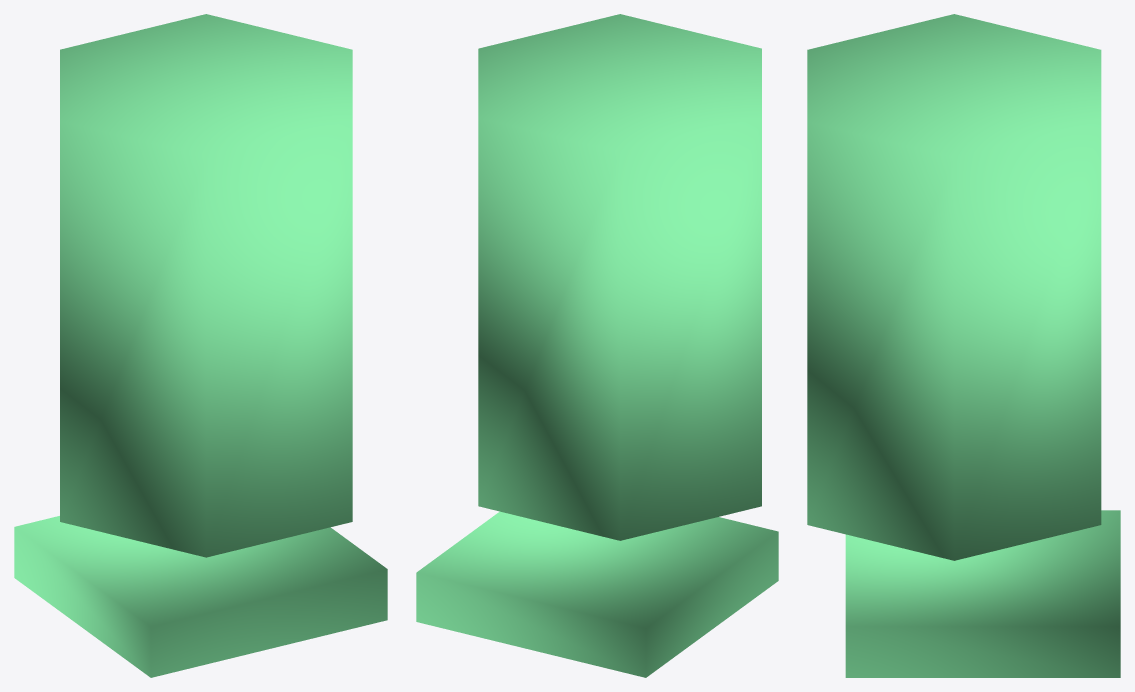
The model's file is ps2_jrpg_sacred_grove_crystal_shrub.obj.
The picture shows the model from 3 angles, left to right: view 1: azimuth 30°, elevation 25°; view 2: azimuth 150°, elevation 25°; view 3: azimuth 270°, elevation 25°; orthographic projection. The views are drawn at different scales.
Bounding box in the file's own units: 0.84 × 1.44 × 0.7753.
